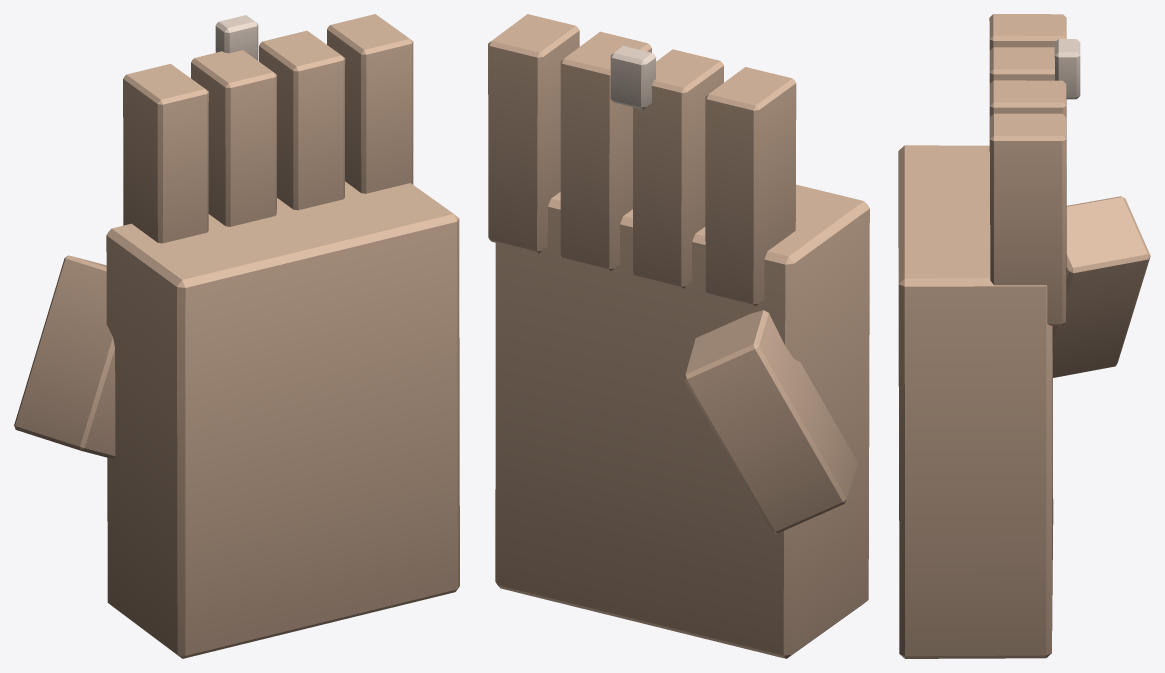
File: hands.glb
3 views of the same model, side by side, from view 1: azimuth 30°, elevation 25°; view 2: azimuth 150°, elevation 25°; view 3: azimuth 270°, elevation 25° (orthographic). The views are drawn at different scales.
Visible parts, largest first — view 1: Palm, Thumb, Finger0, Finger3, Finger1, Finger2, Nail0; view 2: Palm, Thumb, Finger0, Finger3, Finger1, Finger2, Nail0; view 3: Palm, Finger3, Thumb, Finger2, Finger0, Finger1, Nail0.
Boxes of the visible parts, x1=… form: Palm: x1=106, y1=181, x2=459, y2=658; Thumb: x1=14, y1=255, x2=115, y2=459; Finger0: x1=123, y1=64, x2=208, y2=243; Finger3: x1=327, y1=14, x2=413, y2=193; Finger1: x1=191, y1=50, x2=276, y2=226; Finger2: x1=259, y1=30, x2=345, y2=210; Nail0: x1=215, y1=15, x2=258, y2=60; Palm: x1=495, y1=184, x2=869, y2=658; Thumb: x1=684, y1=310, x2=857, y2=533; Finger0: x1=705, y1=67, x2=796, y2=306; Finger3: x1=488, y1=14, x2=579, y2=253; Finger1: x1=633, y1=49, x2=723, y2=288; Finger2: x1=560, y1=31, x2=651, y2=270; Nail0: x1=610, y1=46, x2=656, y2=109; Palm: x1=898, y1=145, x2=1053, y2=658; Finger3: x1=990, y1=113, x2=1066, y2=325; Thumb: x1=1052, y1=196, x2=1150, y2=377; Finger2: x1=989, y1=80, x2=1066, y2=269; Finger0: x1=989, y1=14, x2=1066, y2=151; Finger1: x1=989, y1=47, x2=1066, y2=187; Nail0: x1=1054, y1=39, x2=1080, y2=99.
Size of the model in its own units: 0.1558 by 0.2296 by 0.0961.
